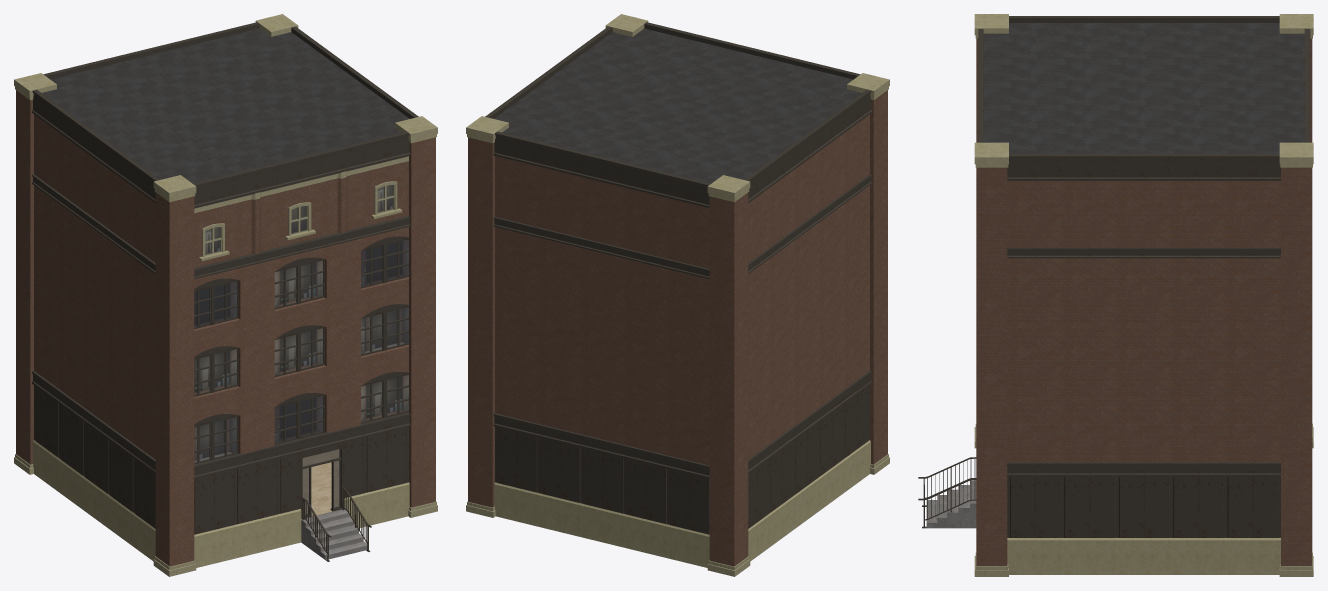
The model's file is quaternius_building_small_1.glb.
The picture shows the model from 3 angles, left to right: view 1: azimuth 30°, elevation 25°; view 2: azimuth 150°, elevation 25°; view 3: azimuth 270°, elevation 25°; orthographic projection. The views are drawn at different scales.
Visible parts, largest first — view 1: Building_Small_1; view 2: Building_Small_1; view 3: Building_Small_1.
Boxes of the visible parts, x1,y1,x2,y2 form: Building_Small_1: [14, 14, 437, 576]; Building_Small_1: [466, 14, 889, 576]; Building_Small_1: [918, 14, 1313, 576].
Bounding box in the file's own units: 12.46 × 17.03 × 14.54.
10 materials, 9 textured.
